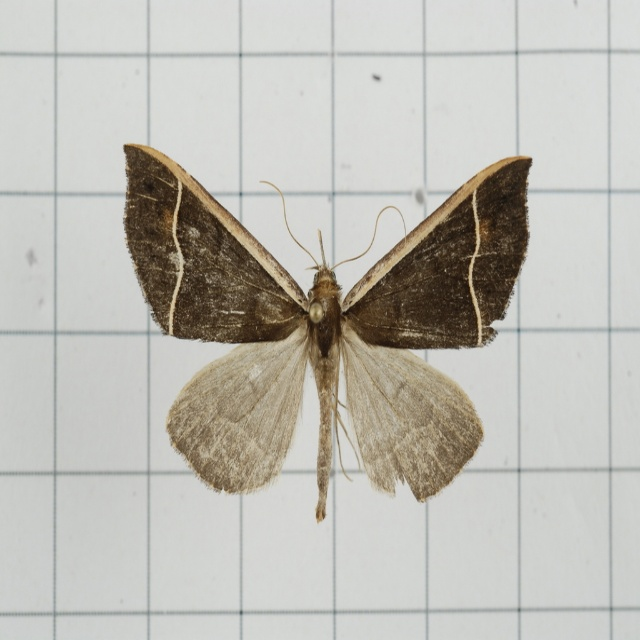Butterfly: (123, 143, 528, 522)
